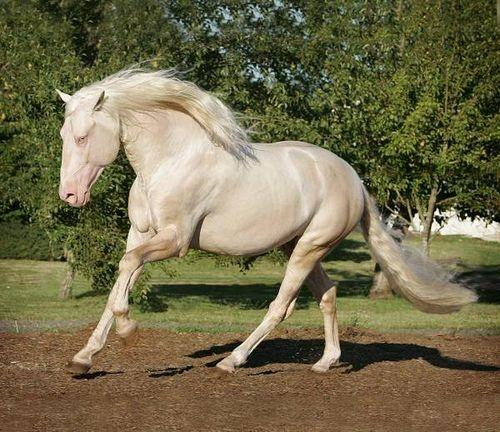horse: (54, 61, 478, 376)
